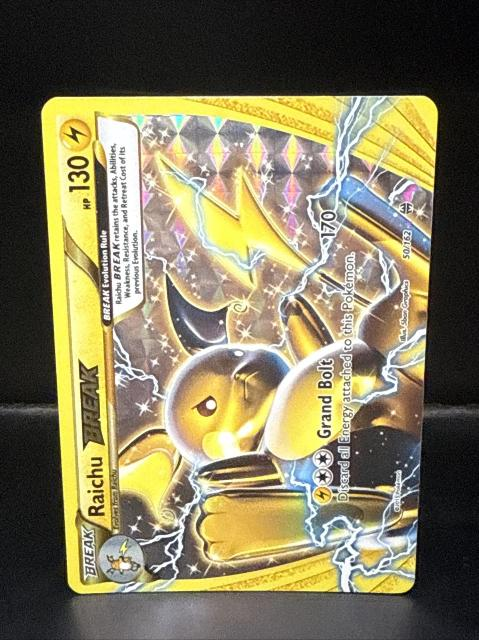Card: (38, 89, 444, 599)
Name: (72, 353, 109, 524)
